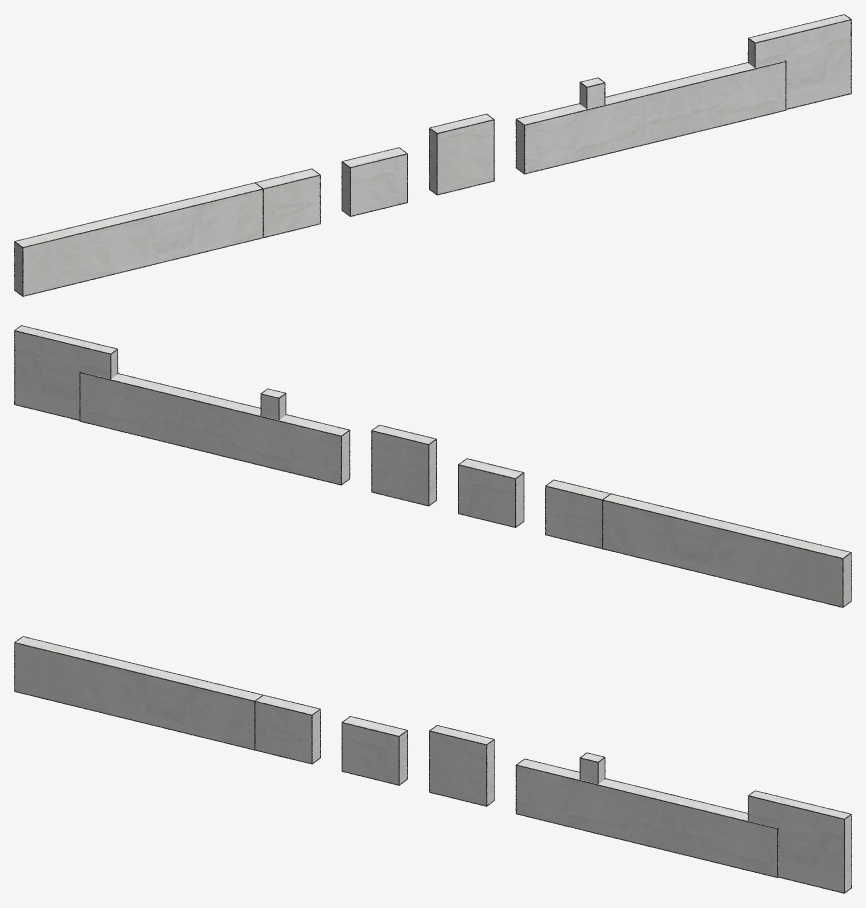
File: voorgrond_levelfinal.glb
3 renders of one model, top to bottom at view 1: azimuth 30°, elevation 25°; view 2: azimuth 150°, elevation 25°; view 3: azimuth 330°, elevation 25°, orthographic.
Parts seen in each view (by area): view 1: tutorial_platform_4, tutorial_platform_start, tutorial_platform_5, tutorial_platform_3, tutorial_platform_2, tutorial_platform_1, tutorial_blokje; view 2: tutorial_platform_4, tutorial_platform_start, tutorial_platform_5, tutorial_platform_3, tutorial_platform_2, tutorial_platform_1, tutorial_blokje; view 3: tutorial_platform_4, tutorial_platform_start, tutorial_platform_5, tutorial_platform_3, tutorial_platform_2, tutorial_platform_1, tutorial_blokje.
Part boxes in pixels (x1,y1,x2,y2): tutorial_platform_4: (515,60,786,174); tutorial_platform_start: (14,182,263,296); tutorial_platform_5: (747,14,851,109); tutorial_platform_3: (429,113,494,195); tutorial_platform_2: (341,147,407,216); tutorial_platform_1: (255,168,320,237); tutorial_blokje: (579,77,605,109); tutorial_platform_4: (79,371,350,485); tutorial_platform_start: (602,493,851,607); tutorial_platform_5: (14,325,118,420); tutorial_platform_3: (371,424,436,506); tutorial_platform_2: (458,458,524,527); tutorial_platform_1: (545,479,610,549); tutorial_blokje: (260,388,286,420); tutorial_platform_4: (515,758,778,877); tutorial_platform_start: (14,636,262,750); tutorial_platform_5: (747,790,851,893); tutorial_platform_3: (429,725,494,806); tutorial_platform_2: (341,716,407,785); tutorial_platform_1: (254,695,320,764); tutorial_blokje: (579,752,605,784).
Size of the model in its own units: 82.93 by 7.19 by 1.57.
Materials: 2 (1 with a texture image).
